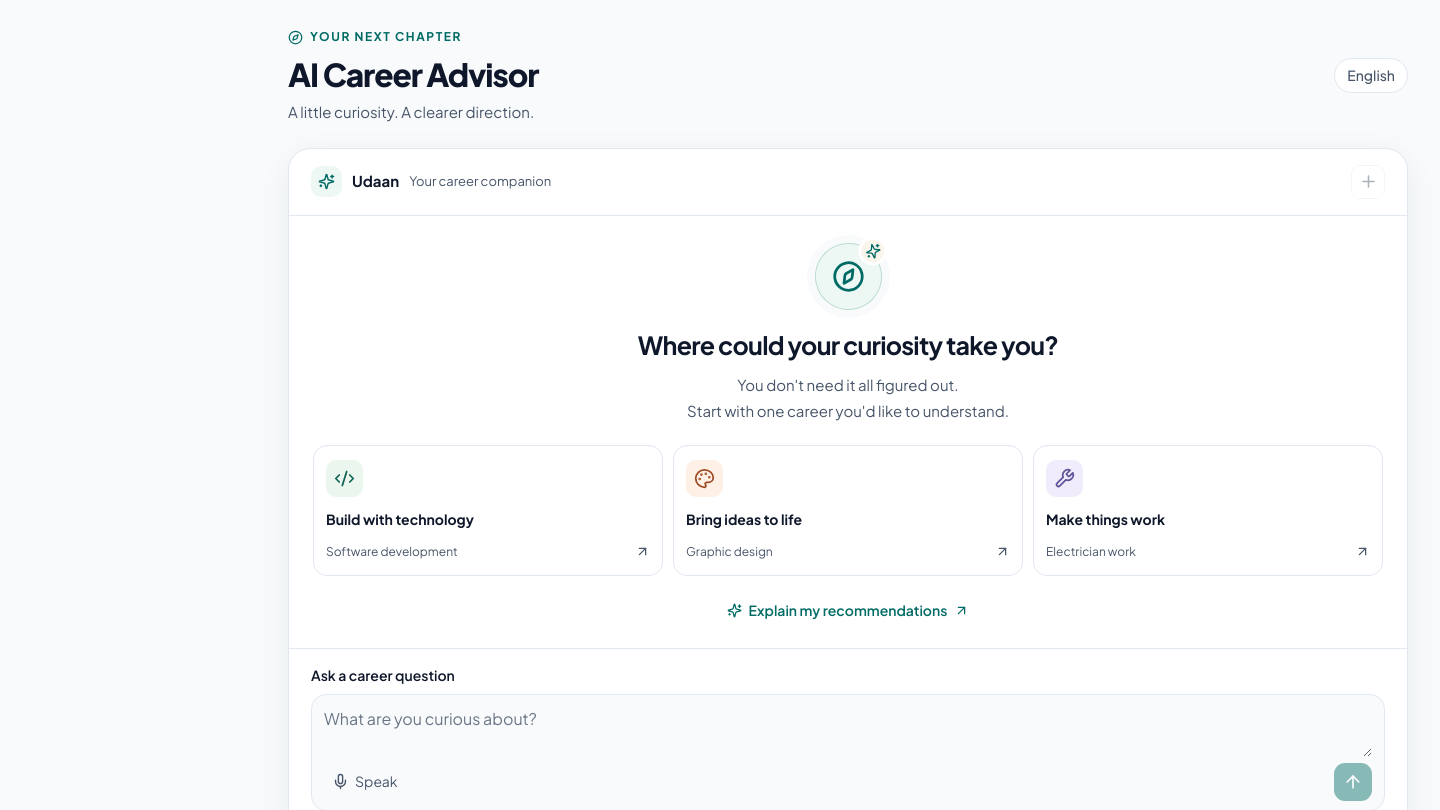
it: Career advisor › retries a busy request without duplicating the student question
Type "What does a developer do?" into the text box labelled "Ask a career question" at (848, 731), box [324,706,1372,757]
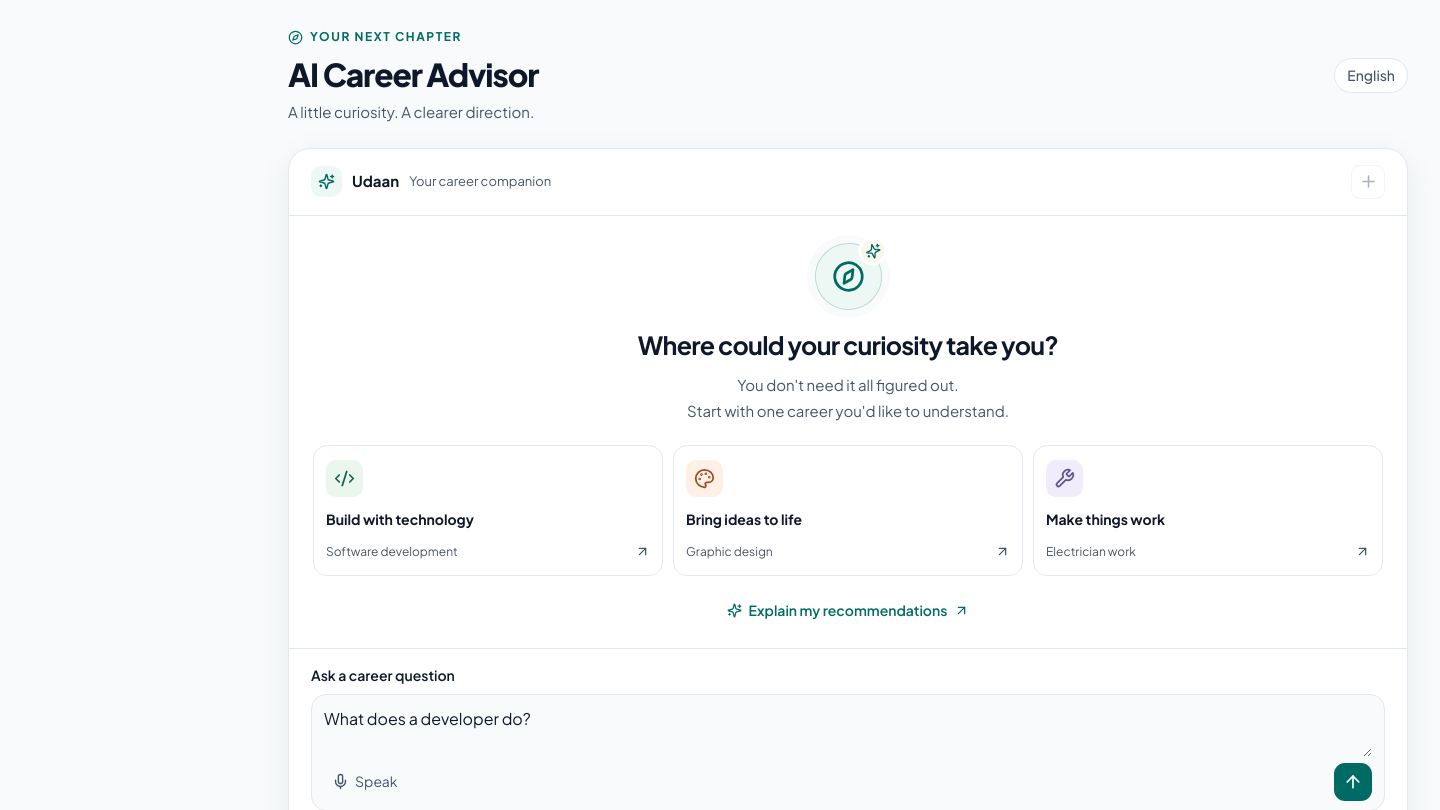
Click the button named "Ask Udaan" at (1353, 782), box [1334,763,1372,801]
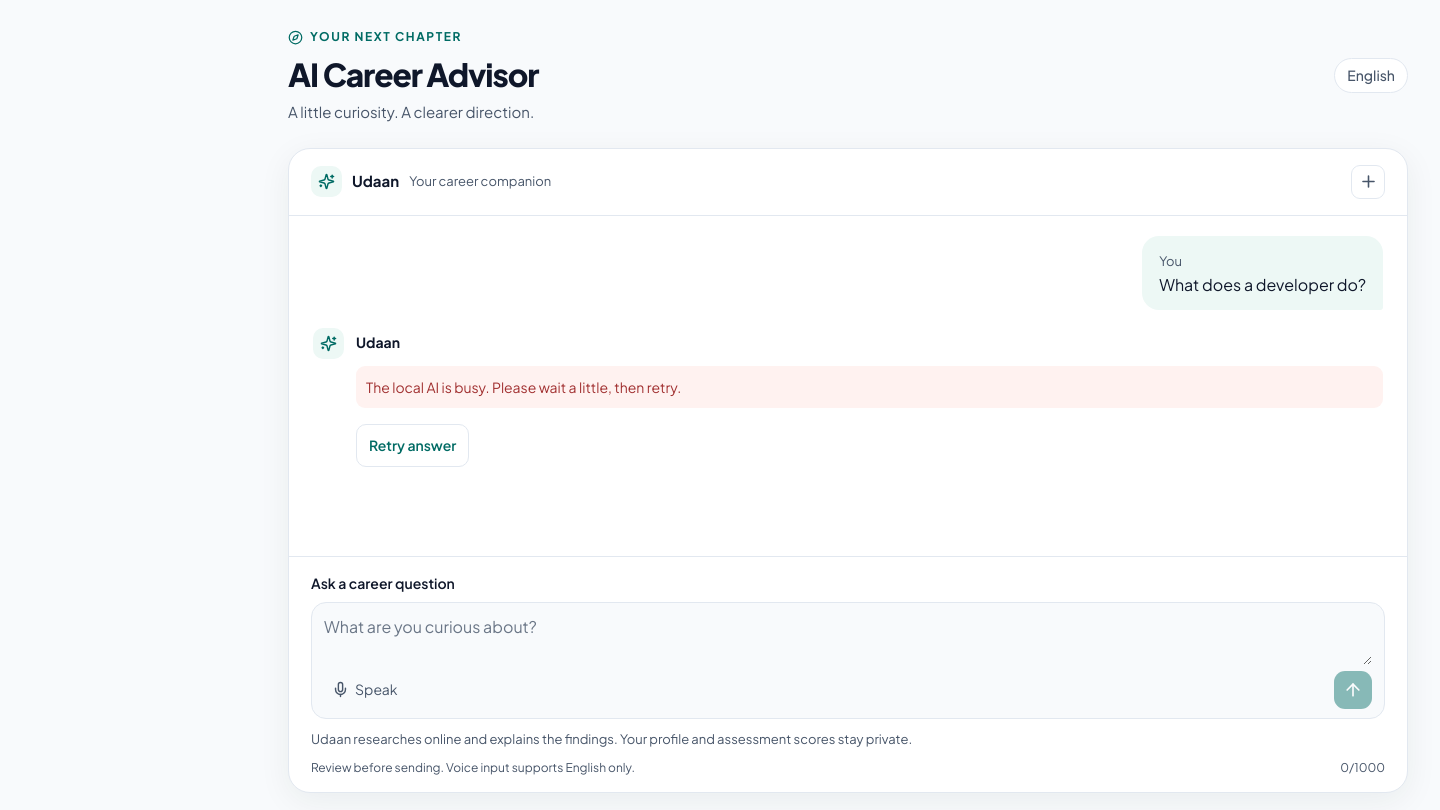
Now the message "The local AI is busy. Please wait a little, then retry." is shown, box [356,366,1383,408]
Click the button "Retry answer" at (413, 446), box [356,424,469,467]
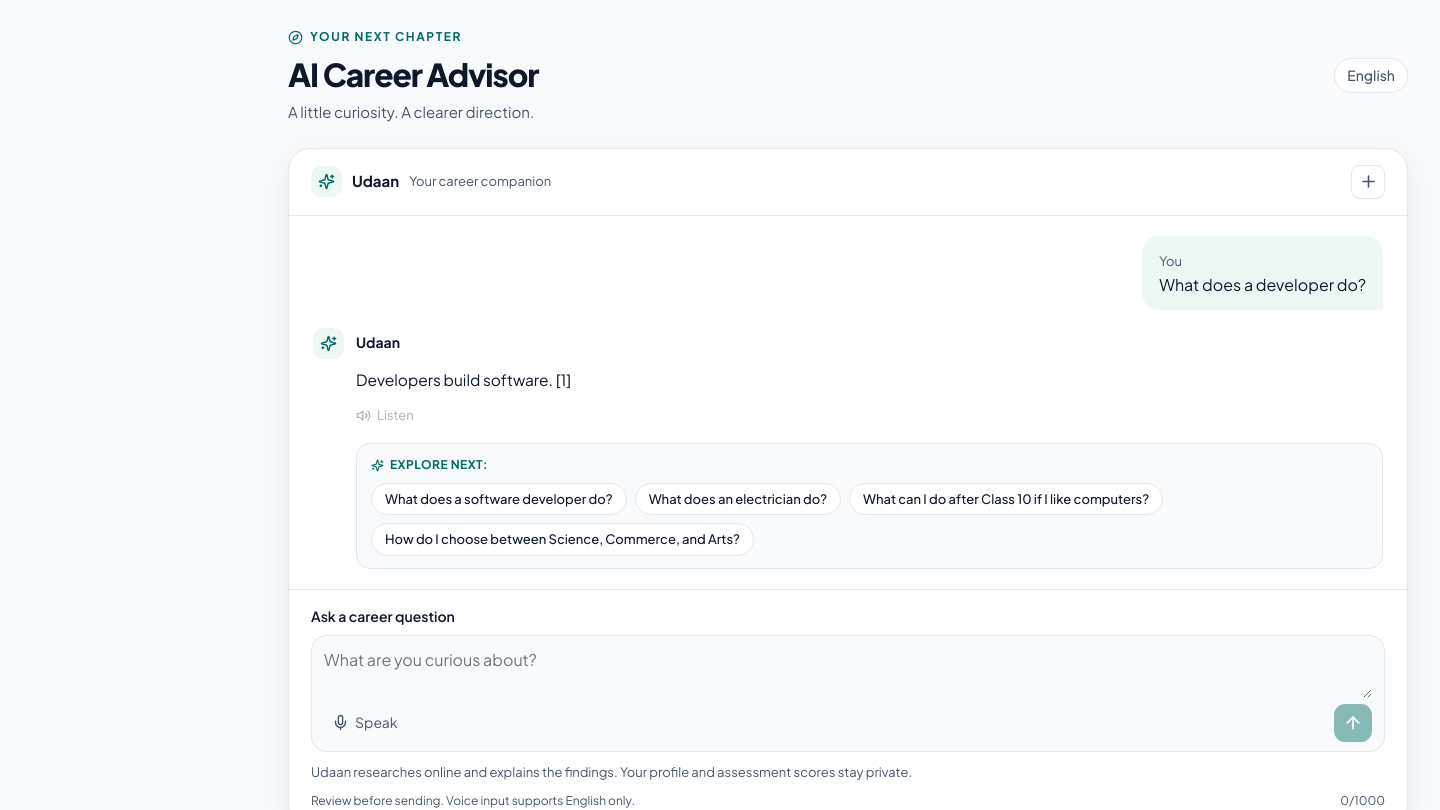
Expected: the text "What does a developer do?" is shown once, [1159,272,1366,298]
Now the text "Developers build software. [1]" is shown, box [356,370,571,389]
